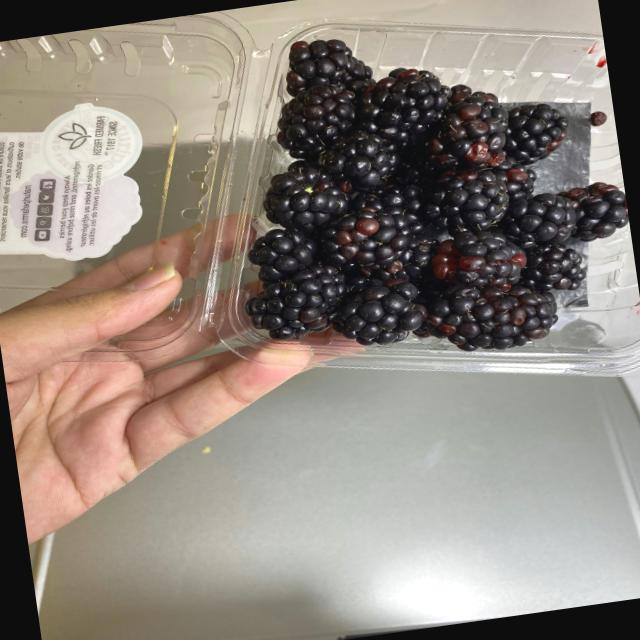blackberries: (244, 0, 602, 386)
